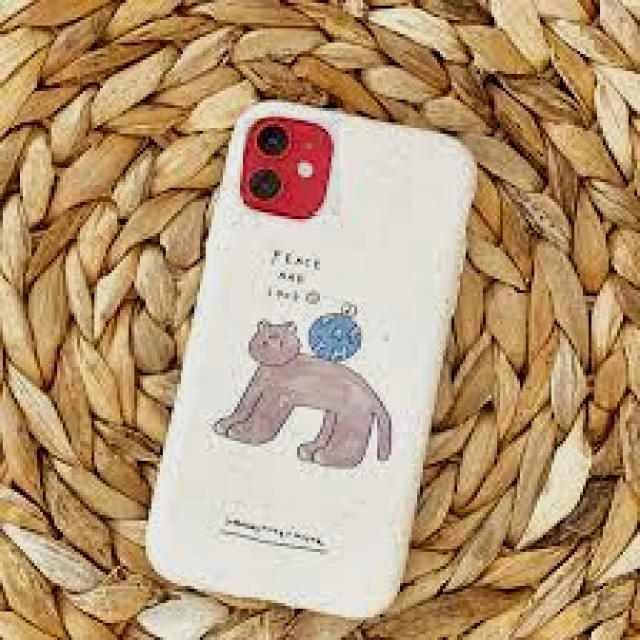lens: (245, 117, 296, 201)
phone: (140, 97, 478, 621)
